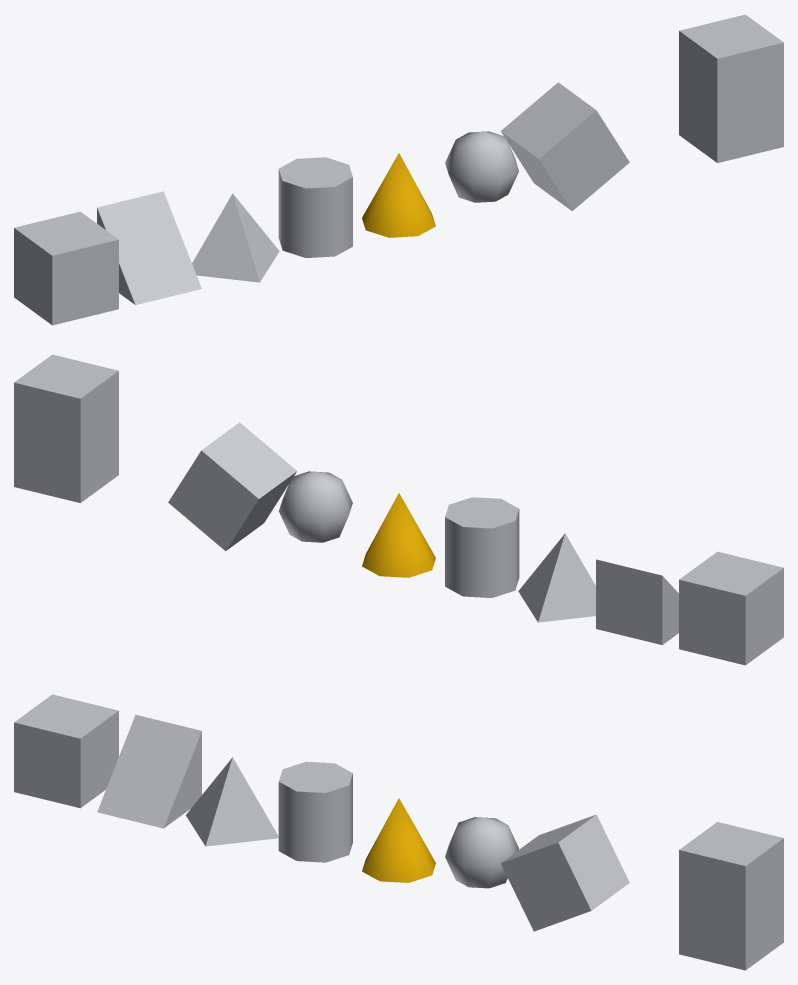
File: studio_model_shapes.glb
3 renders of one model, top to bottom at view 1: azimuth 30°, elevation 25°; view 2: azimuth 150°, elevation 25°; view 3: azimuth 330°, elevation 25°, orthographic.
Visible parts, largest first — view 1: shapes; view 2: shapes; view 3: shapes.
Part boxes in pixels (left/top/right/bottom): shapes: left=14, top=14, right=783, bottom=325; shapes: left=14, top=354, right=783, bottom=665; shapes: left=14, top=694, right=783, bottom=970.
Size of the model in its own units: 5.5 by 0.8415 by 0.7071.
